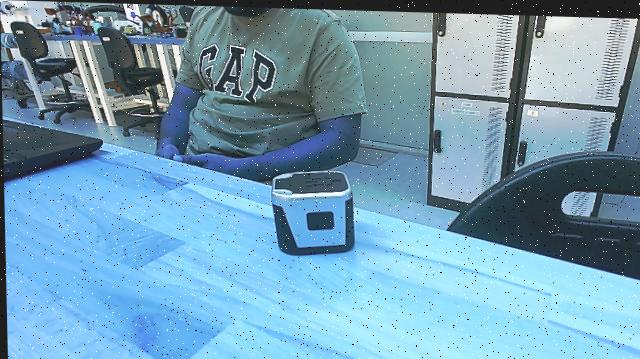adapter: (264, 163, 361, 265)
